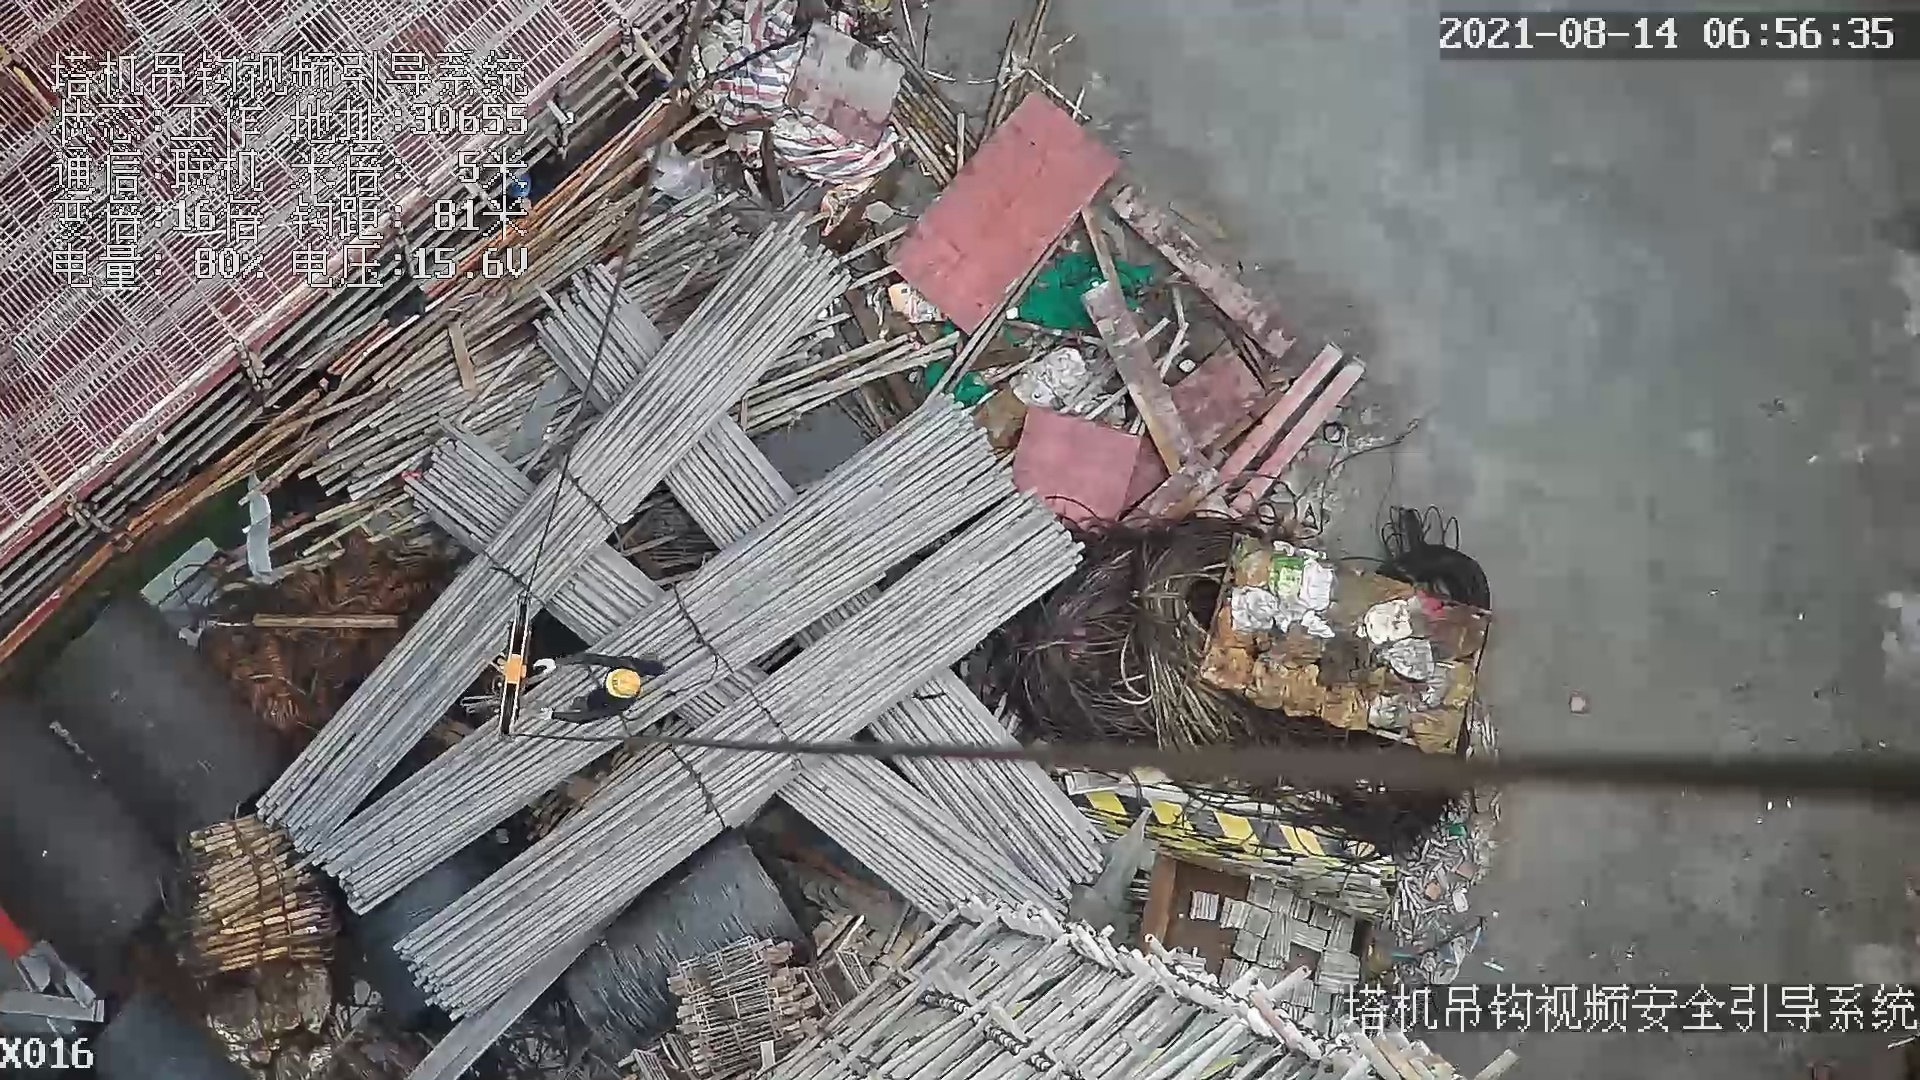helmet: (605, 669, 640, 698)
hook: (474, 603, 547, 736)
person: (535, 653, 646, 731)
rebar: (255, 220, 847, 854), (396, 492, 1085, 1023), (320, 397, 1013, 914), (775, 749, 1071, 920), (877, 687, 1104, 900)
wood: (185, 814, 336, 972)
